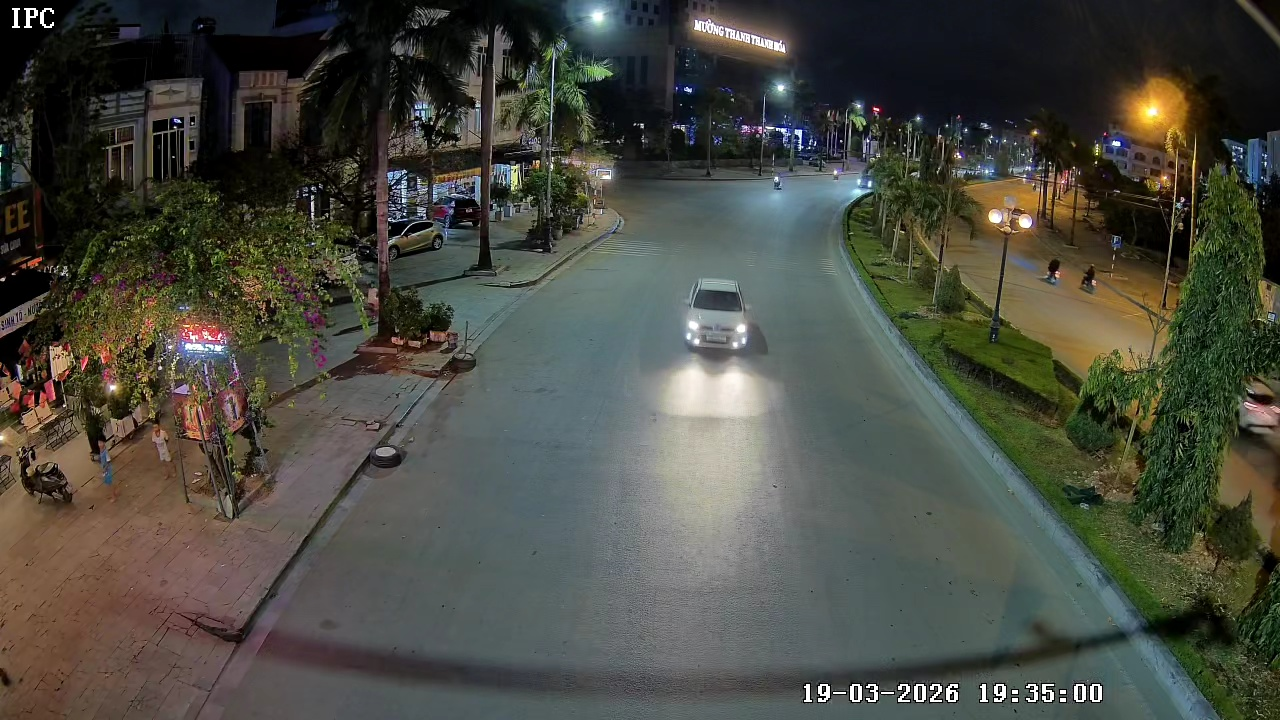car: (682, 275, 755, 354)
